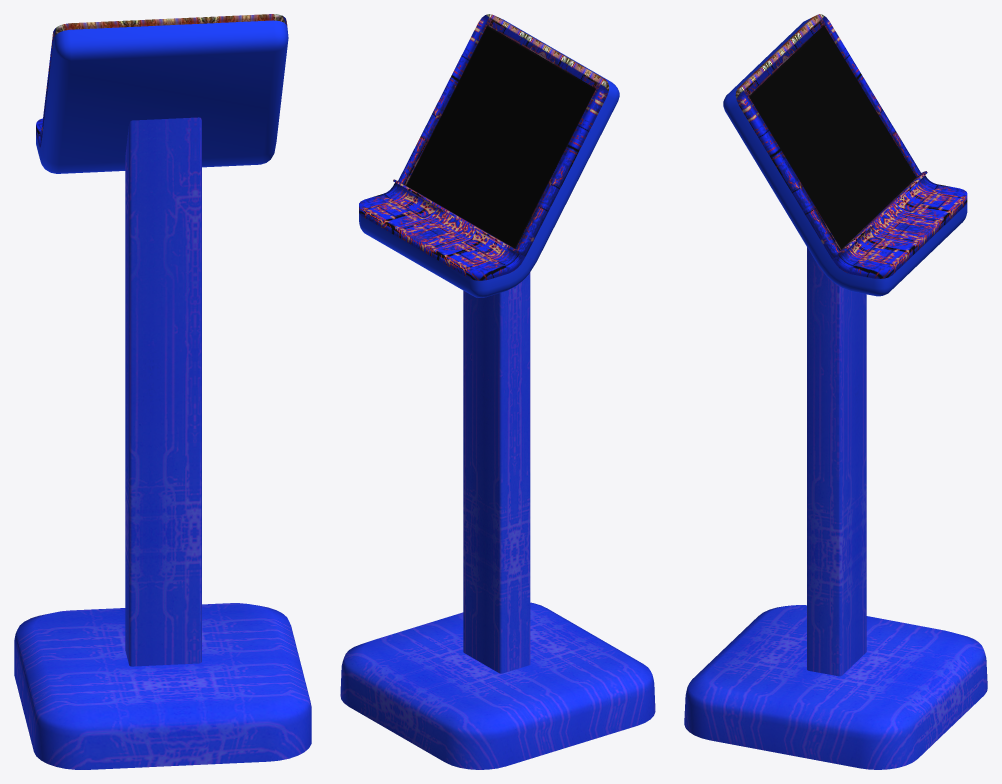
The model's file is wwwunderkammer_AhmedAFinal__.glb.
The picture shows the model from 3 angles, left to right: view 1: azimuth 30°, elevation 25°; view 2: azimuth 150°, elevation 25°; view 3: azimuth 270°, elevation 25°; orthographic projection. The views are drawn at different scales.
Visible parts, largest first — view 1: CombinedMesh.007; view 2: CombinedMesh.007; view 3: CombinedMesh.007.
Part boxes in pixels (x1=…): CombinedMesh.007: x1=14, y1=14, x2=311, y2=769; CombinedMesh.007: x1=340, y1=14, x2=655, y2=769; CombinedMesh.007: x1=684, y1=14, x2=987, y2=769.
Bounding box in the file's own units: 0.8889 × 2.08 × 0.8889.
2 materials, 2 textured.
